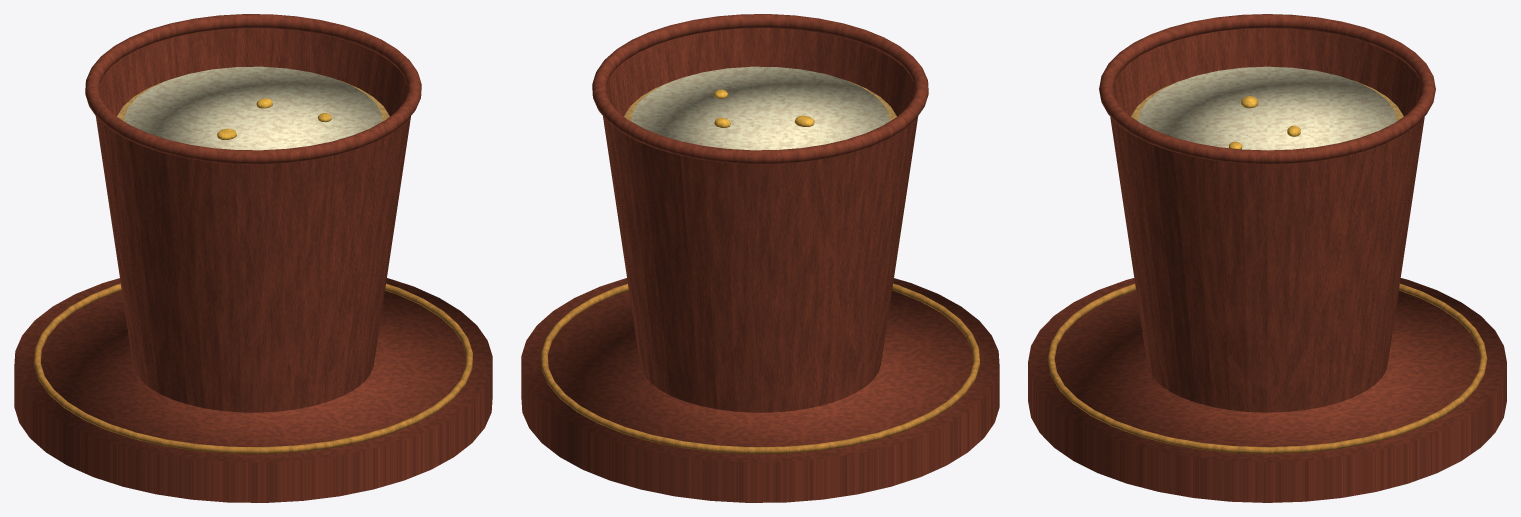
File: chicha.glb
3 views of the same model, side by side, from view 1: azimuth 30°, elevation 25°; view 2: azimuth 150°, elevation 25°; view 3: azimuth 270°, elevation 25° (orthographic).
Visible parts, largest first — view 1: terracotta, foam, gold; view 2: terracotta, foam, gold; view 3: terracotta, foam, gold.
Boxes of the visible parts, x1,y1,x2,y2 form: terracotta: (14, 14, 492, 502); foam: (124, 66, 382, 150); gold: (34, 283, 473, 453); terracotta: (521, 14, 999, 502); foam: (631, 66, 889, 150); gold: (540, 283, 979, 453); terracotta: (1028, 14, 1506, 502); foam: (1138, 66, 1396, 150); gold: (1047, 283, 1487, 453).
Bounding box in the file's own units: 0.27 × 0.1985 × 0.27.
Materials: 5 (5 with a texture image).
